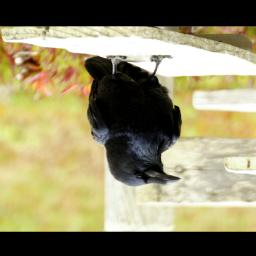Crow: (84, 54, 184, 187)
